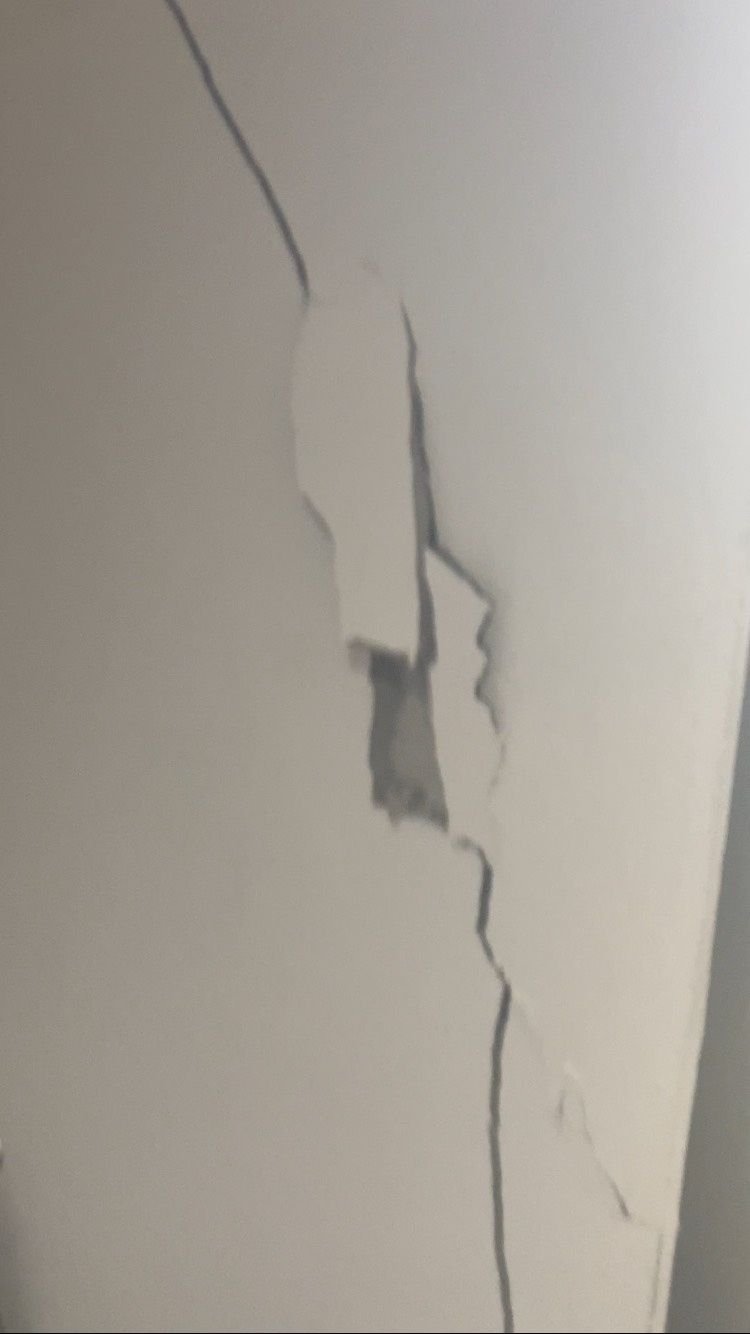Medium: (197, 96, 593, 1012)
